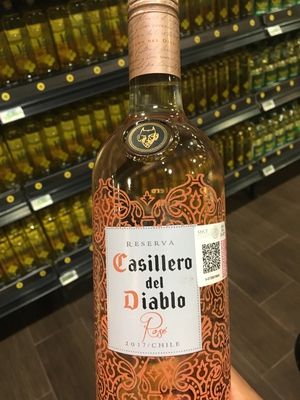casillero del diablo rose: (76, 14, 247, 398)
